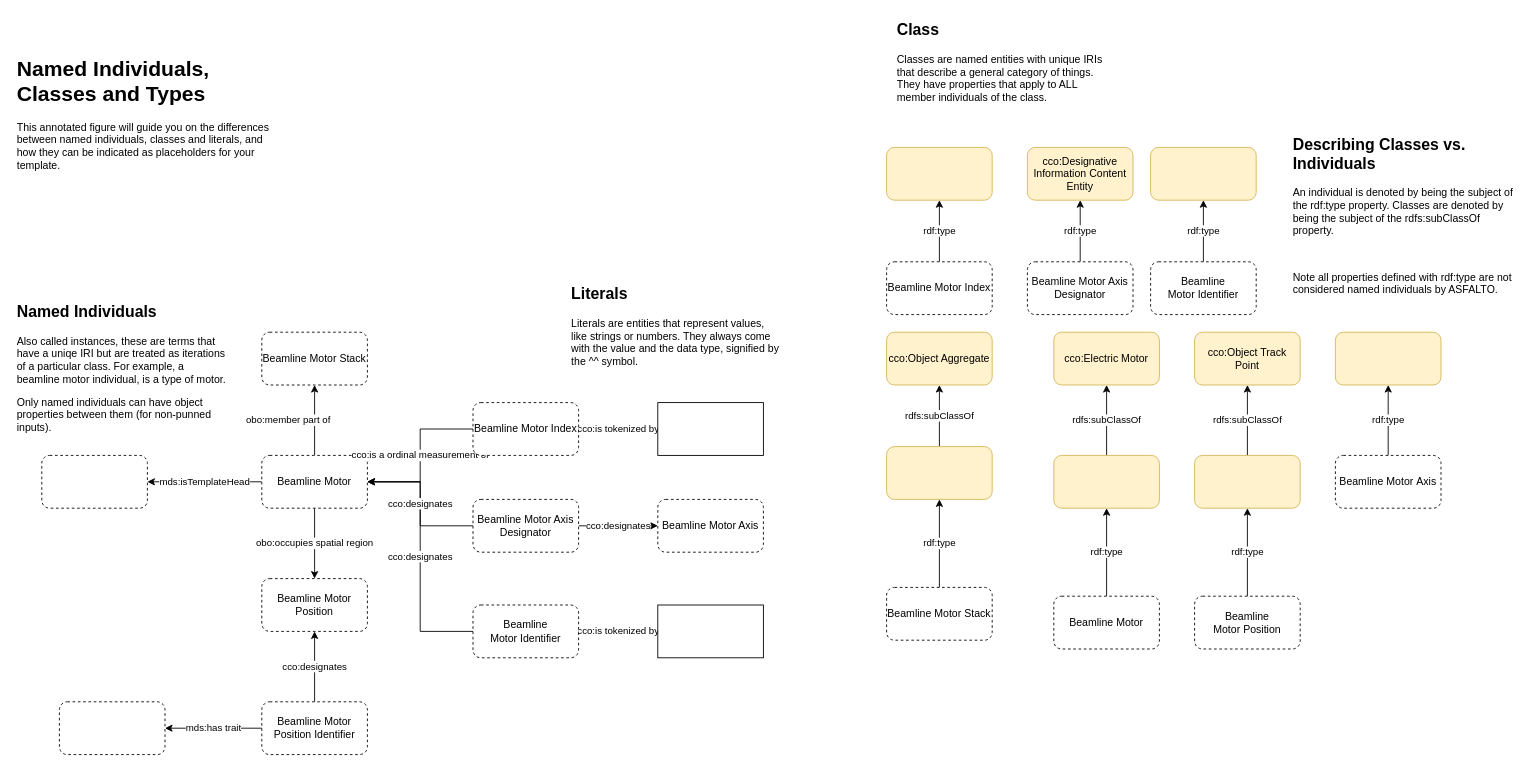
Some shapes in this 1535 by 770 pixel diagram are drawn without their labels. The shapes that lost their labels are listed below. From the top down, each one's centre as x and y in pixels, then its label:
point (939, 173): cco:Sequence Position Ordinality
point (1203, 173): cco:Code Identifier
point (1388, 358): cco:Coordinate System Axis
point (710, 428): "Beamline Motor Index Value"^^xsd:string
point (94, 481): mds:BeamlineMotorTemplate
point (939, 472): mds:Beamline Motor Stack
point (1106, 481): mds:Motor
point (1247, 481): mds:Beamline Motor Position
point (710, 631): "Beamline Motor Identifier Value"^^xsd:string
point (112, 728): mds:ReadEPICSVariable
